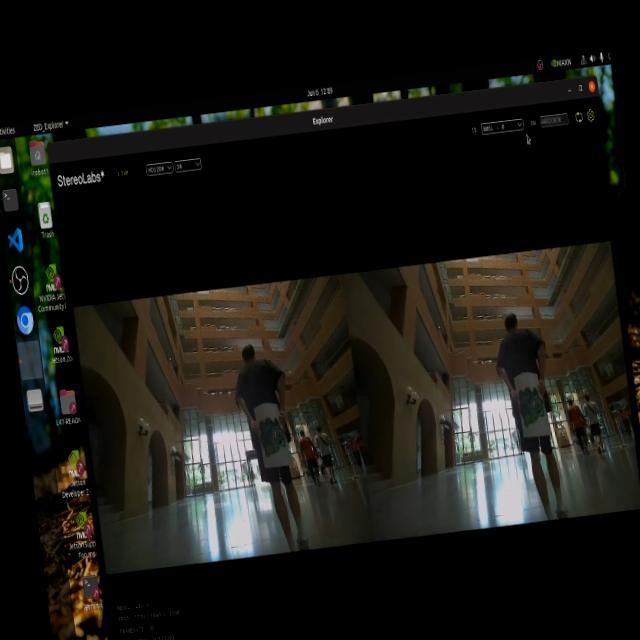green: (252, 412, 288, 450), (512, 381, 540, 428)
